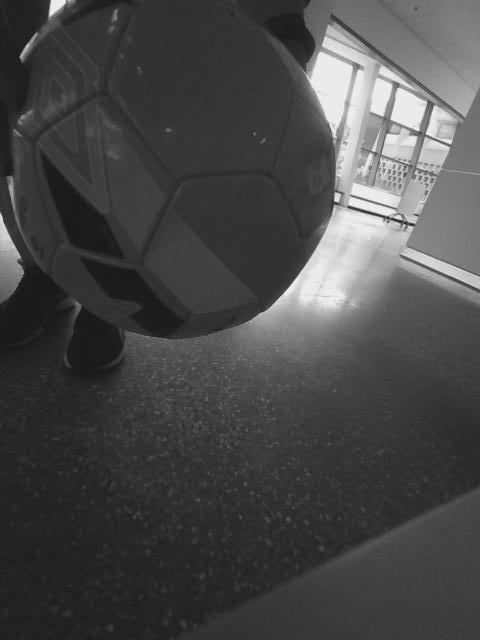ball: (17, 5, 343, 338)
